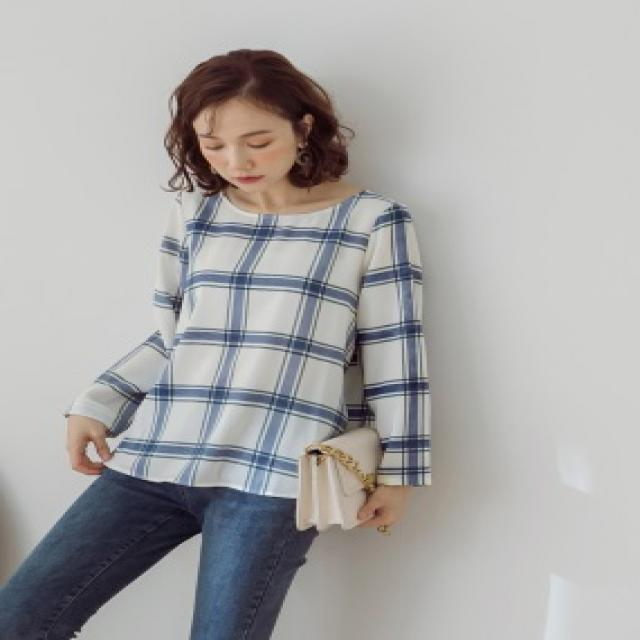plaid: (82, 168, 451, 520)
